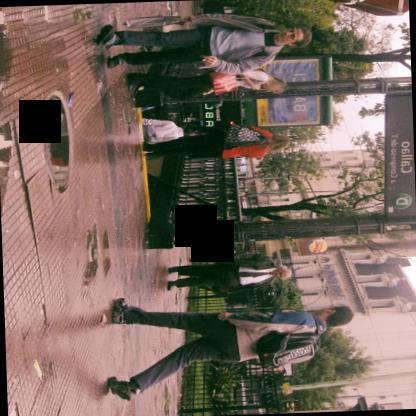backpack: (255, 331, 319, 371), (254, 25, 277, 56)
handbag: (222, 122, 273, 150), (120, 15, 188, 29), (207, 72, 239, 95)
